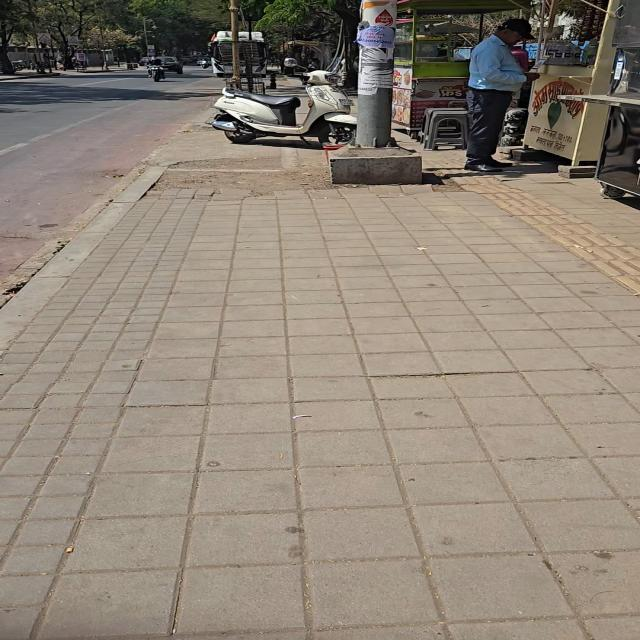obstacle: (465, 19, 539, 172), (356, 0, 396, 147), (230, 0, 240, 86), (511, 46, 529, 72), (148, 57, 162, 76), (143, 18, 148, 55), (478, 13, 484, 43)
vehicle: (210, 70, 356, 144), (149, 65, 164, 81), (197, 58, 210, 68)
